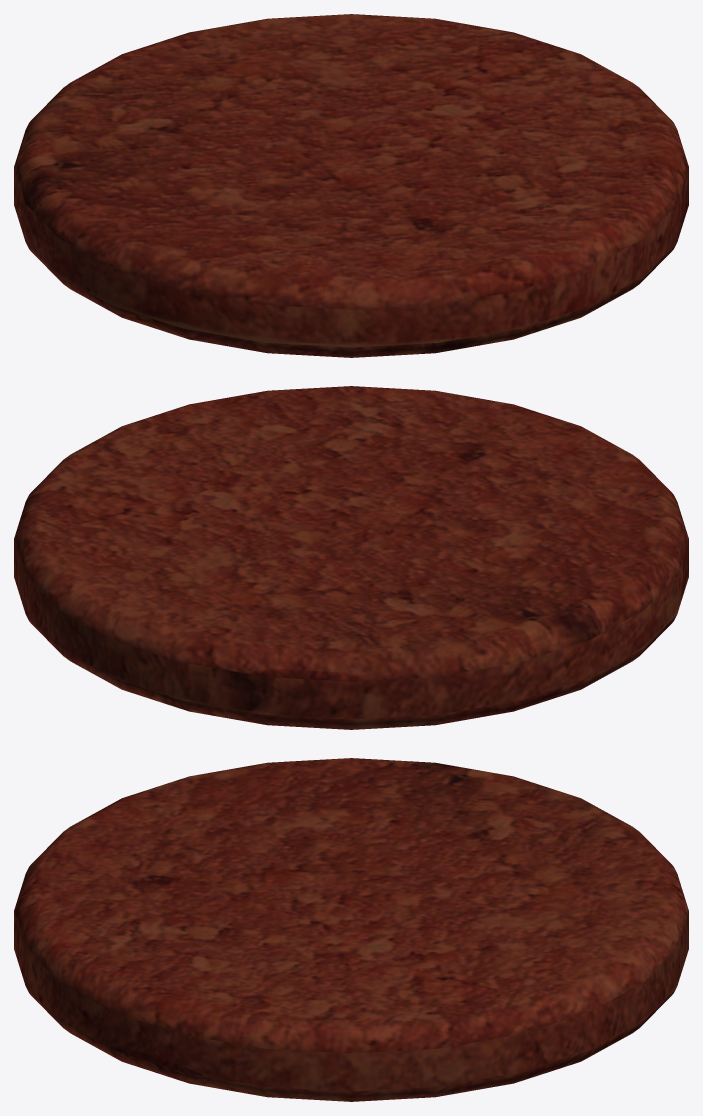
Rendered from Burger_Patty_Cooked.fbx.
3 renders of one model, top to bottom at view 1: azimuth 30°, elevation 25°; view 2: azimuth 150°, elevation 25°; view 3: azimuth 270°, elevation 25°, orthographic.
Visible parts, largest first — view 1: Burger_Patty_Cooked; view 2: Burger_Patty_Cooked; view 3: Burger_Patty_Cooked.
Boxes of the visible parts, x1=… form: Burger_Patty_Cooked: x1=14, y1=14, x2=688, y2=357; Burger_Patty_Cooked: x1=14, y1=386, x2=688, y2=729; Burger_Patty_Cooked: x1=14, y1=758, x2=688, y2=1101.
Bounding box in the file's own units: 0.6524 × 0.0813 × 0.6524.
Materials: 1 (1 with a texture image).
